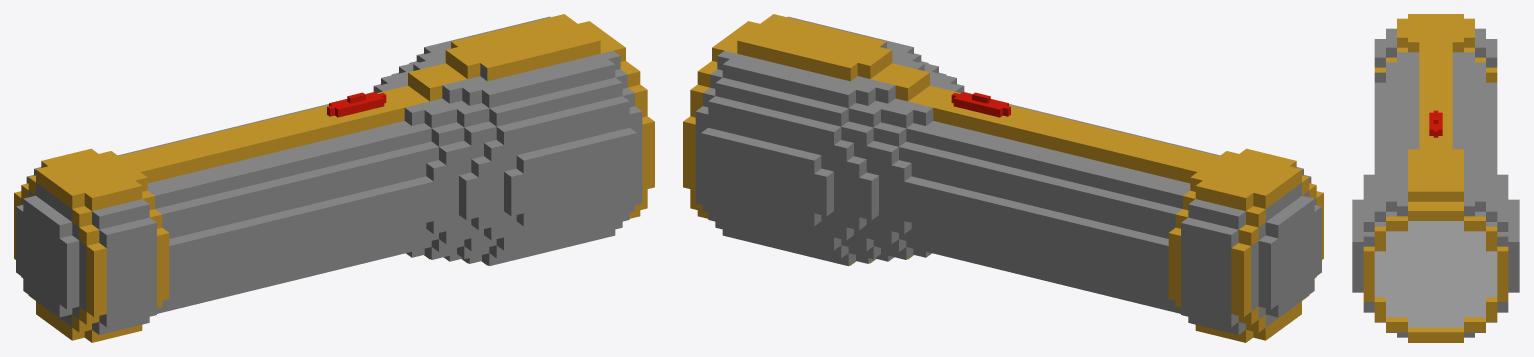
Rendered from Latarka_szaro_zota_czerwony_guzik_swici_sie.fbx.
The picture shows the model from 3 angles, left to right: view 1: azimuth 30°, elevation 25°; view 2: azimuth 150°, elevation 25°; view 3: azimuth 270°, elevation 25°; orthographic projection. The views are drawn at different scales.
Visible parts, largest first — view 1: Cylinder, Cube; view 2: Cylinder, Cube; view 3: Cylinder, Cube.
Part boxes in pixels (<box>): Cylinder: <box>14,14,654,342</box>; Cube: <box>327,92,386,117</box>; Cylinder: <box>683,14,1323,342</box>; Cube: <box>951,92,1010,117</box>; Cylinder: <box>1352,14,1519,342</box>; Cube: <box>1429,110,1442,137</box>.
Bounding box in the file's own units: 307 × 102 × 102.
